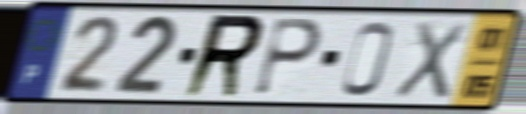0: (340, 19, 397, 98)
2: (110, 13, 183, 98), (57, 14, 121, 95)
P: (250, 16, 325, 100)
R: (179, 11, 268, 101)
X: (390, 18, 470, 102)
